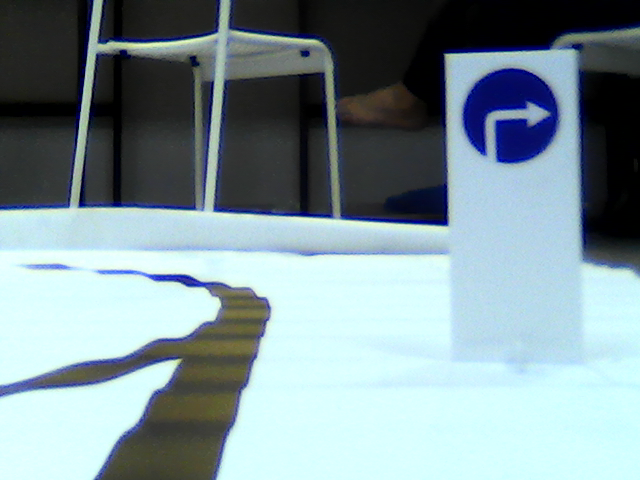Right: (462, 61, 559, 167)
